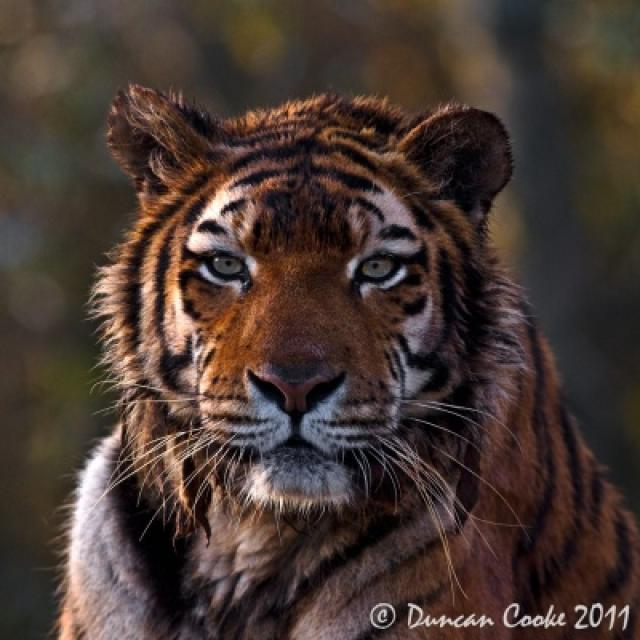Tiger: (56, 82, 638, 638)
